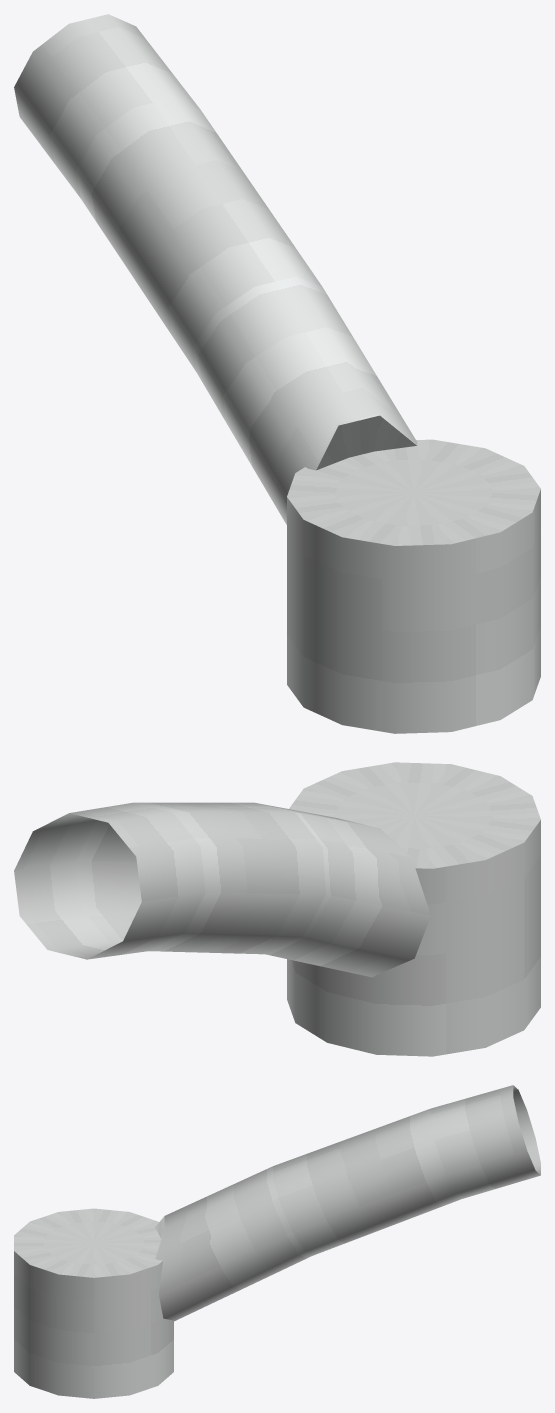
The model's file is nycsignalarm_regular8_c1_thin.obj.
3 views of the same model, one above another, from view 1: azimuth 30°, elevation 25°; view 2: azimuth 150°, elevation 25°; view 3: azimuth 270°, elevation 25° (orthographic). The views are drawn at different scales.
Visible parts, largest first — view 1: nycsignalarm_regular8_c1_thin; view 2: nycsignalarm_regular8_c1_thin; view 3: nycsignalarm_regular8_c1_thin.
Boxes of the visible parts, box(x1,y1,x2,y2) form: nycsignalarm_regular8_c1_thin: box(14, 14, 540, 733); nycsignalarm_regular8_c1_thin: box(14, 762, 540, 1056); nycsignalarm_regular8_c1_thin: box(14, 1085, 540, 1398).
Bounding box in the file's own units: 0.5688 × 1.04 × 1.83.
